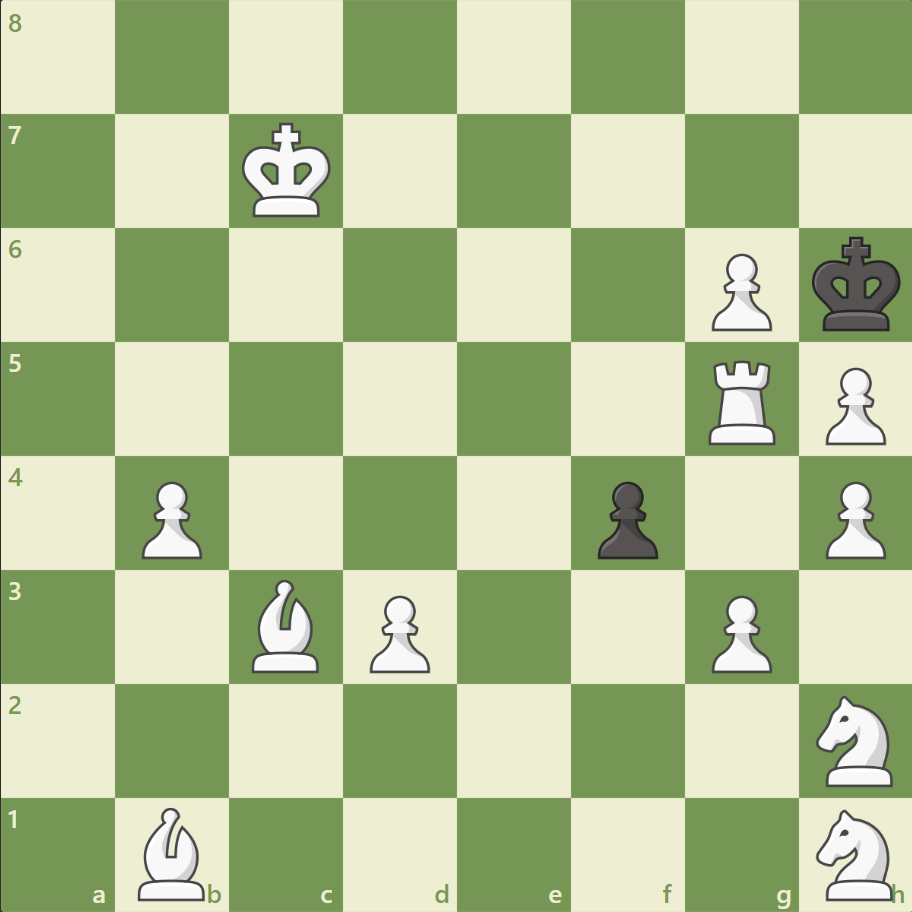B: (131, 801, 215, 904), (244, 574, 328, 676)
K: (238, 117, 338, 225)
N: (806, 688, 903, 791), (806, 802, 903, 904)
P: (701, 246, 776, 337), (133, 473, 208, 564), (701, 586, 776, 677), (815, 359, 889, 450), (815, 473, 889, 564), (361, 586, 435, 677)
R: (700, 352, 783, 449)
k: (806, 231, 906, 339)
p: (588, 473, 662, 564)
